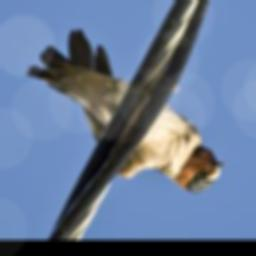Swallow: (25, 27, 226, 195)
